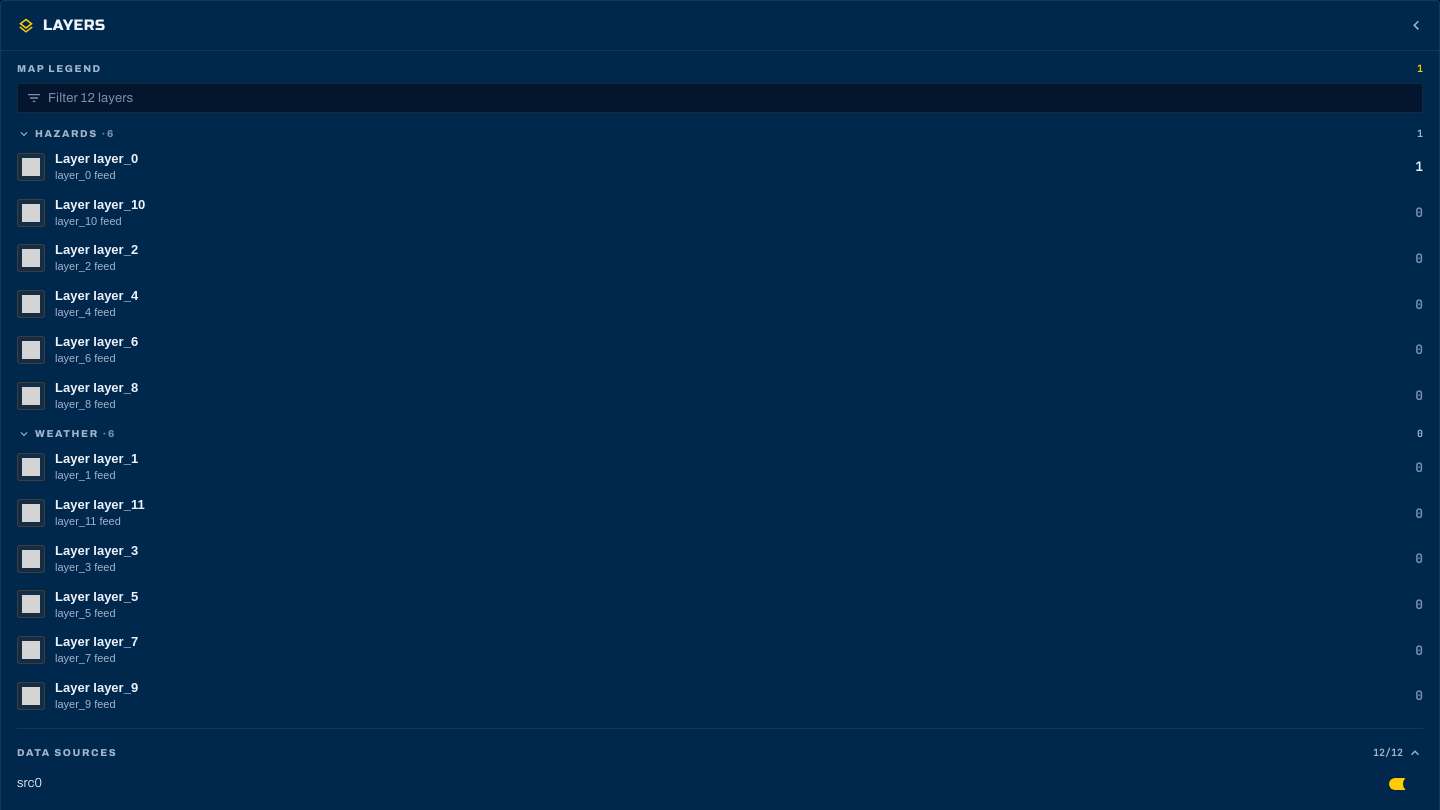
it: data-driven legend › builds collapsible groups from source layers, with counts and a quick filter
Expected: the button with aria-label "Hazards group" shows "6", x1=9 y1=123 x2=1431 y2=145
# Isolate by layer id.
Click the button "Layer layer_0 layer_0 feed 1" at (97, 158), box x1=9 y1=145 x2=1431 y2=189
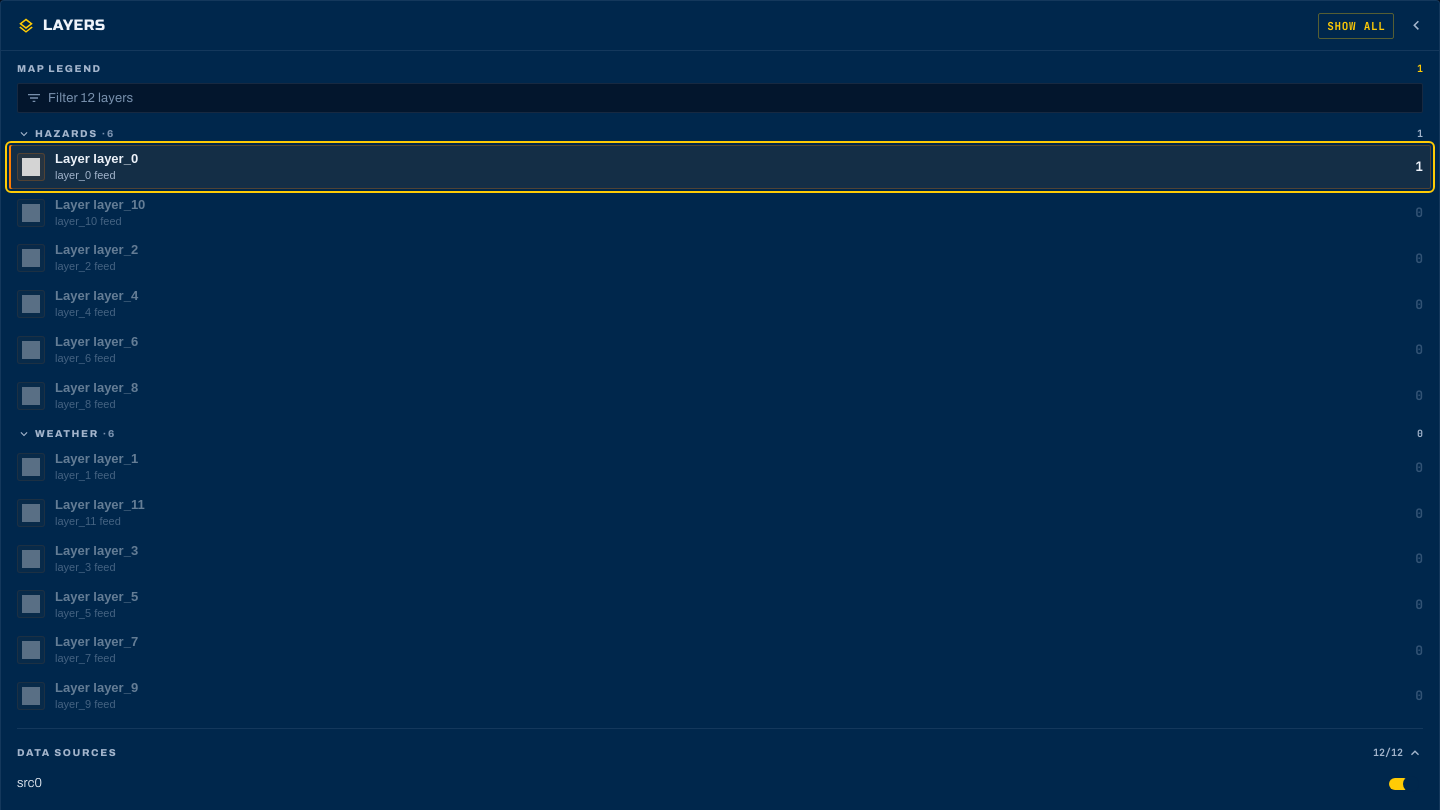
Click the button "Show all" at (1356, 26), box x1=1318 y1=12 x2=1394 y2=38
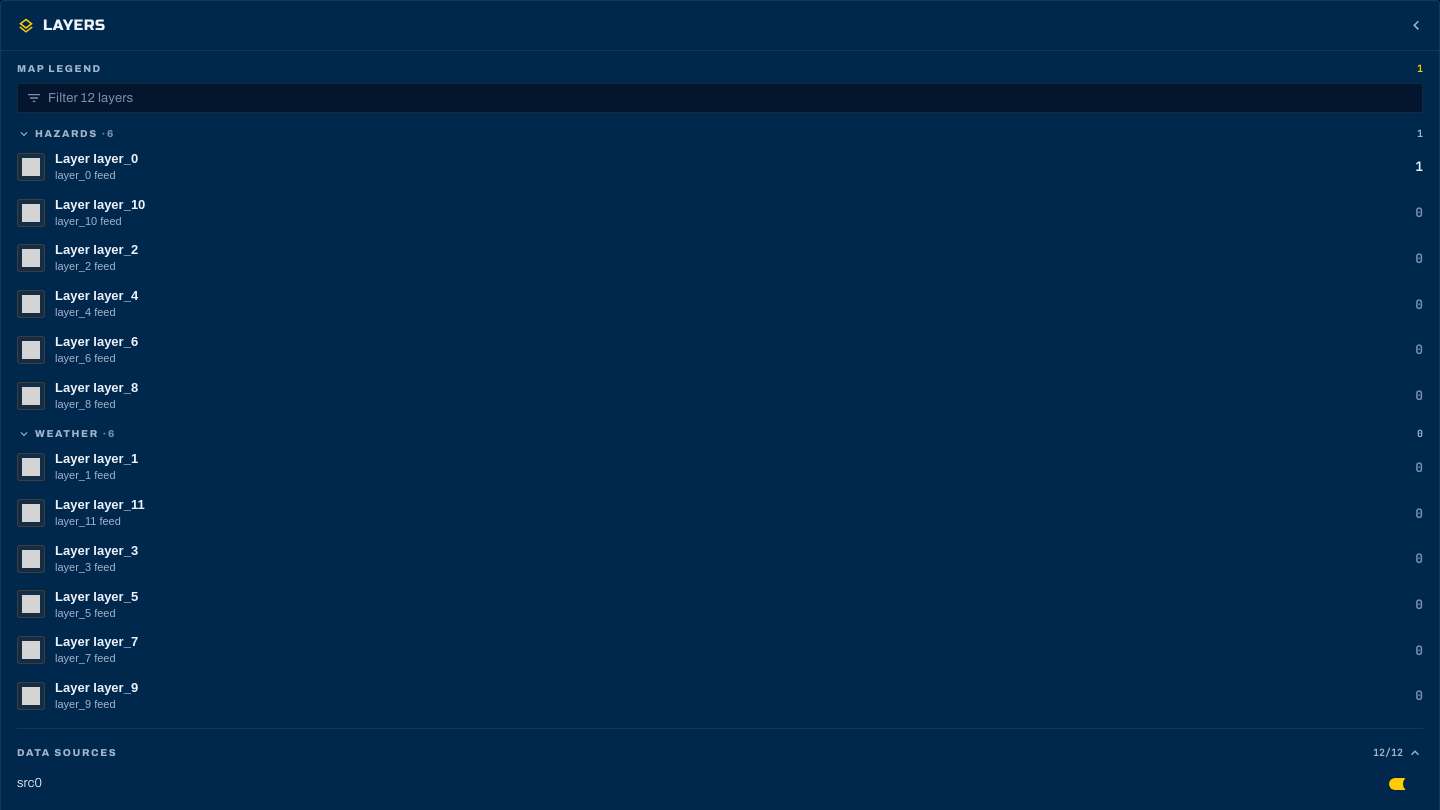
# Collapse a group.
Click the button with aria-label "Hazards group" at (66, 133), box x1=9 y1=123 x2=1431 y2=145
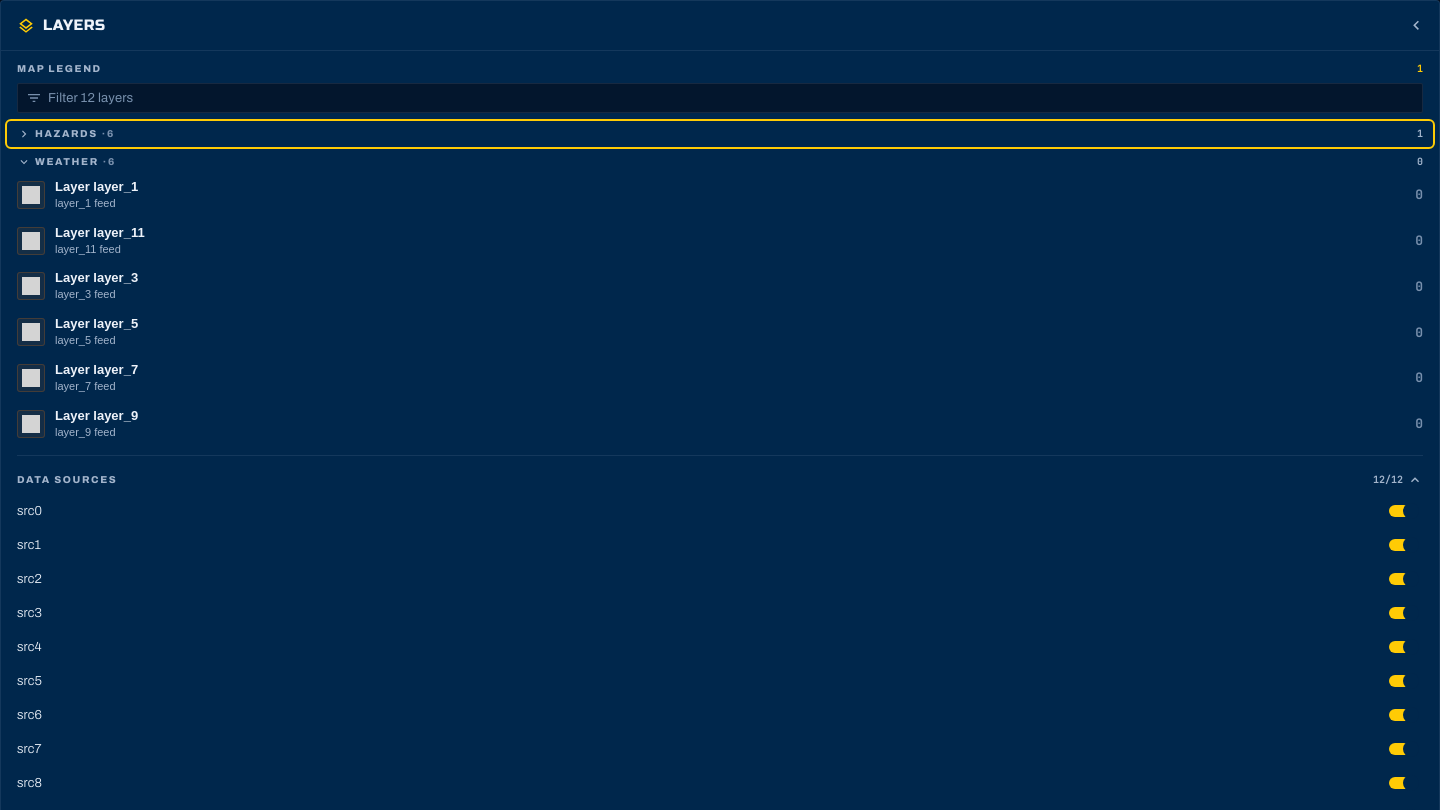
Now the button with aria-label "Hazards group" is collapsed, box x1=9 y1=123 x2=1431 y2=145
Now the button "Layer layer_0" is gone
Type "layer_10" into the field named "filter layers" at (731, 98), box x1=48 y1=84 x2=1414 y2=112
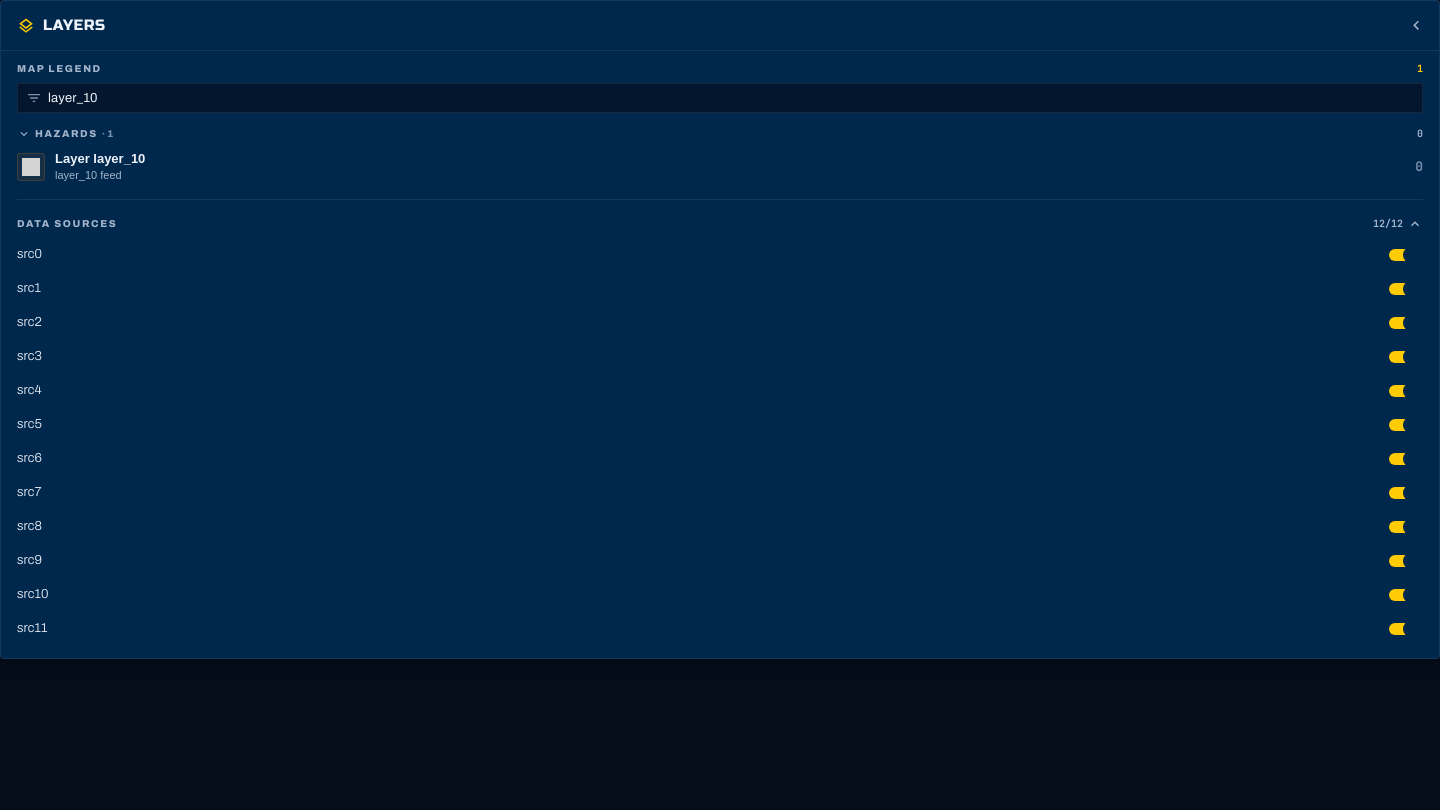
Now the number of list items is 1, box x1=9 y1=145 x2=1431 y2=189
Now the text "Layer layer_10" is shown, box x1=55 y1=151 x2=145 y2=166
